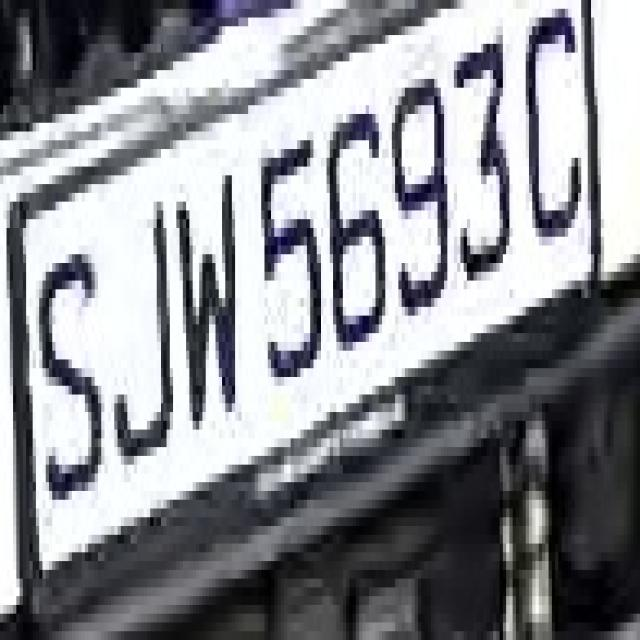3: (447, 9, 513, 289)
5: (255, 123, 320, 412)
6: (323, 79, 389, 351)
9: (385, 44, 457, 324)
C: (516, 9, 588, 263)
J: (108, 167, 180, 491)
S: (36, 210, 108, 535)
W: (173, 166, 251, 438)
